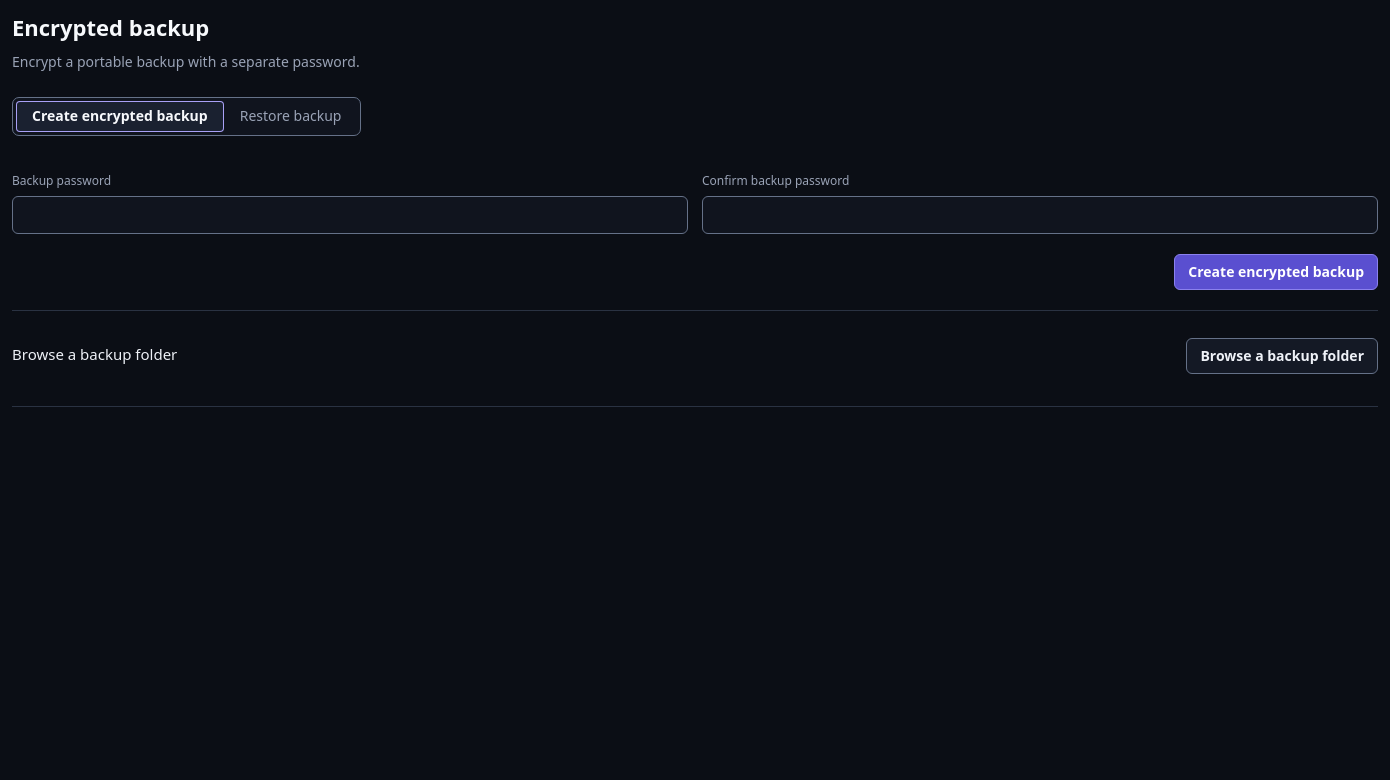
Scenario: backup restore review › keeps a successful merge restore successful when refresh fails
Click the button "Restore backup" at x=291, y=116, box [224, 101, 358, 132]
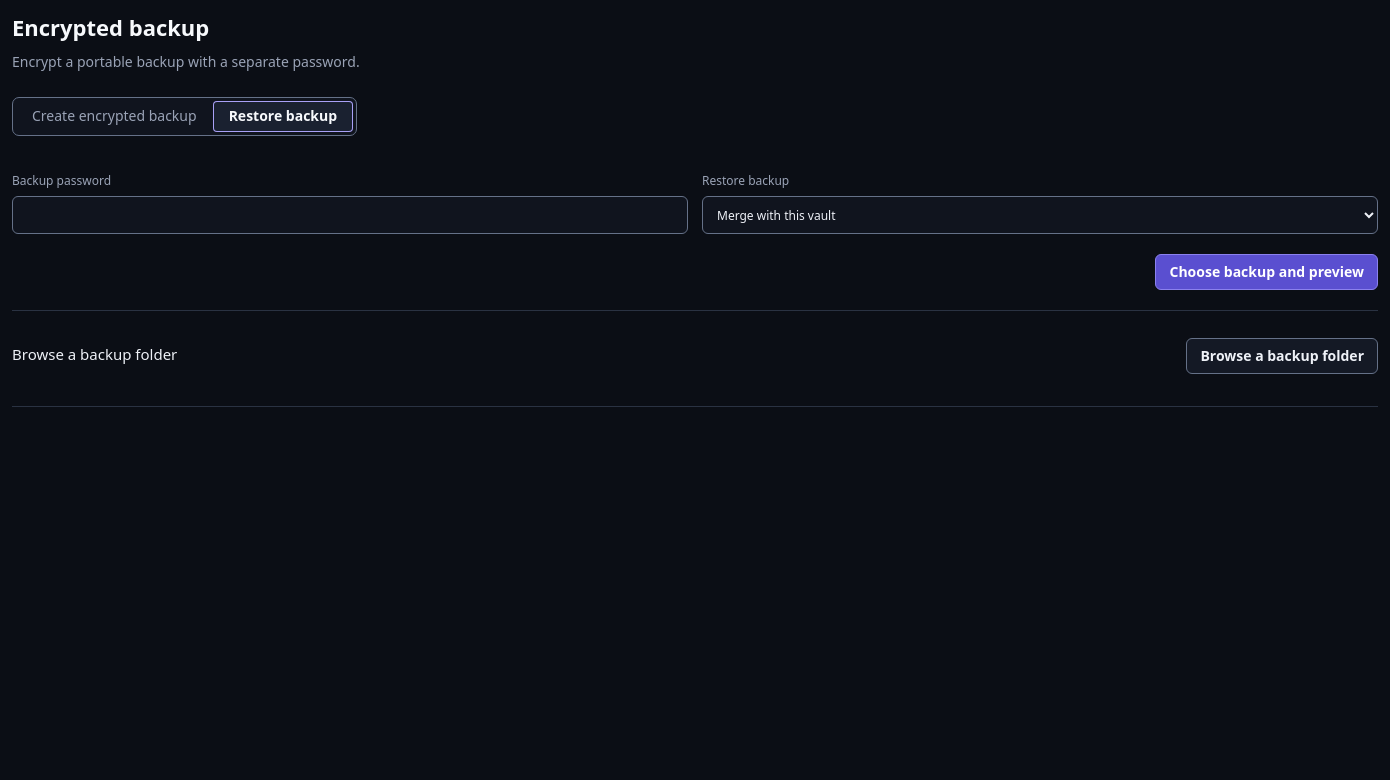
Type "synthetic-backup-password" into the password field labelled "Backup password" at x=350, y=215, box [12, 196, 688, 234]
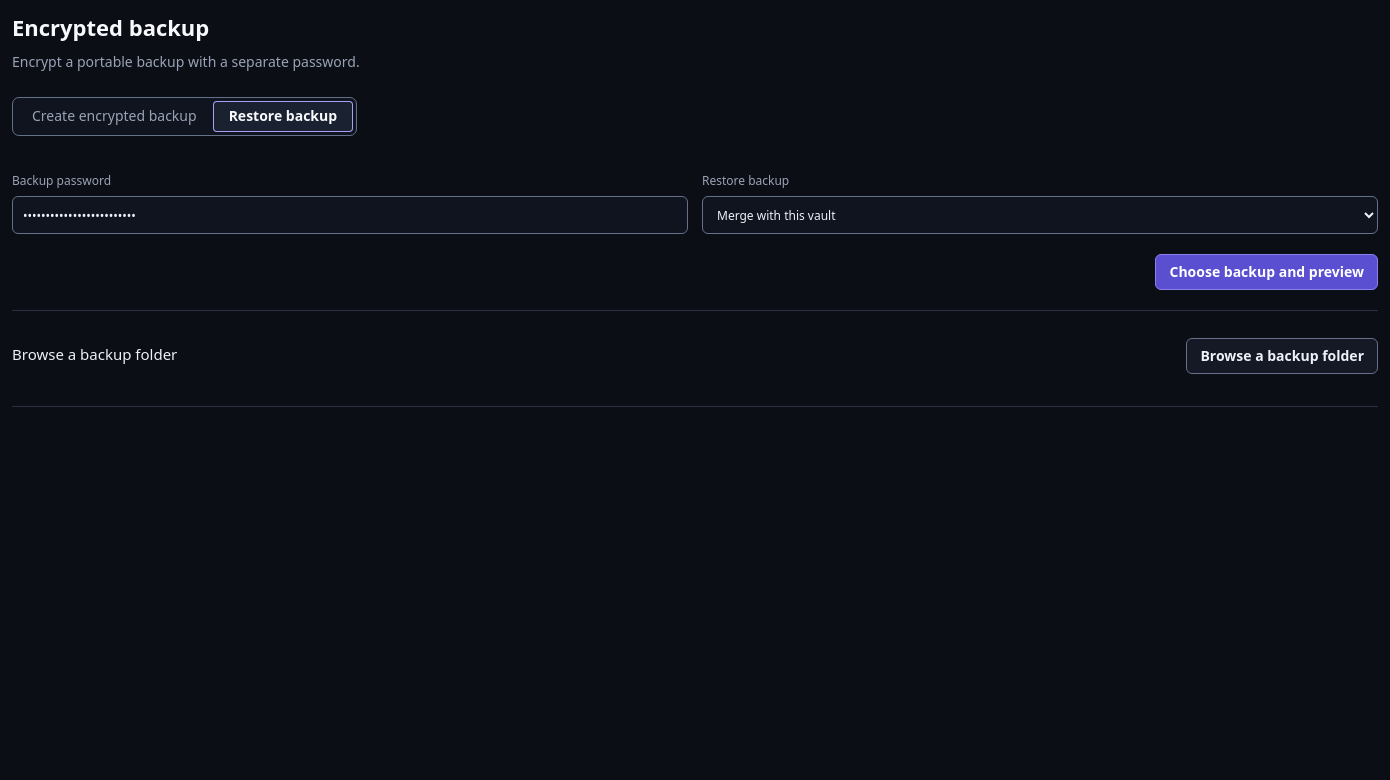
Click the button "Choose backup and preview" at x=1267, y=272, box [1156, 254, 1378, 290]
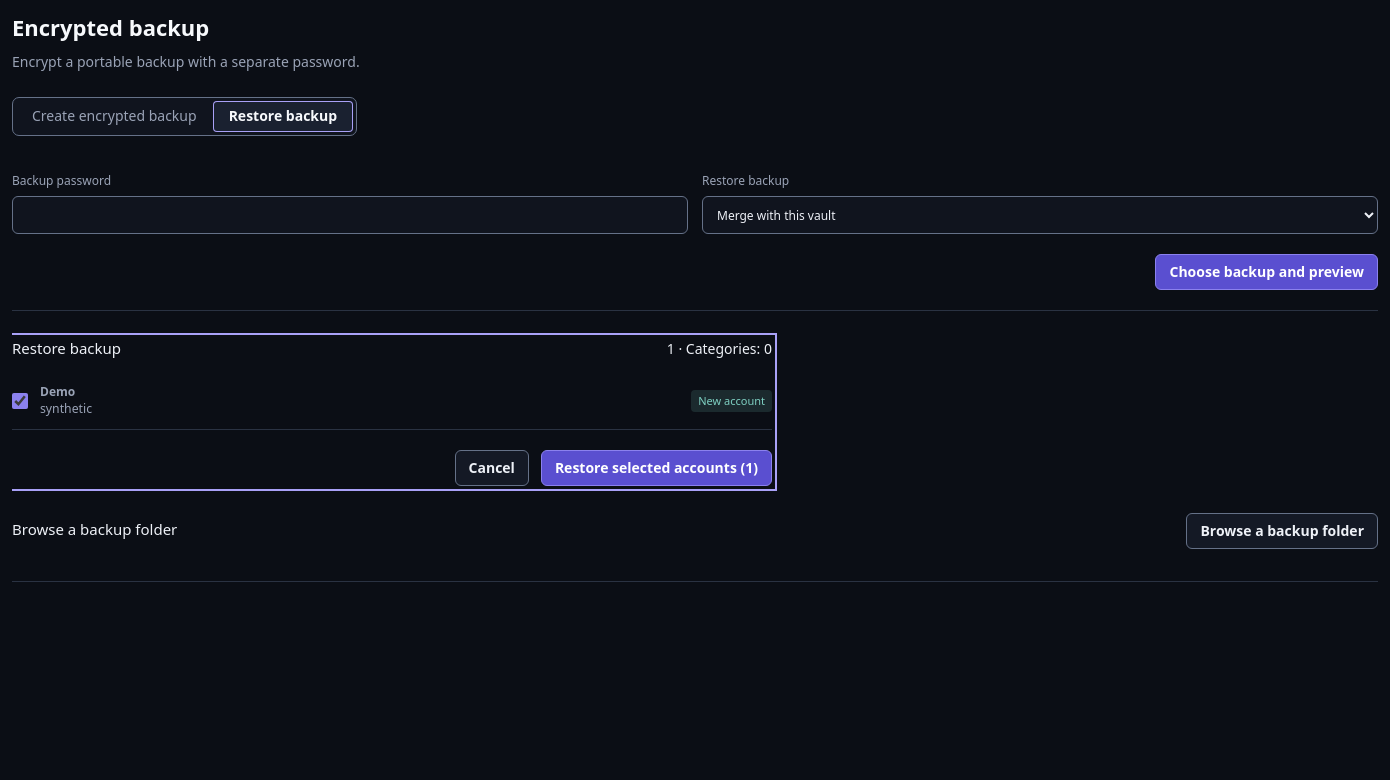
Expected: the text "synthetic" is shown, [40, 400, 92, 418]
Click the button "Restore selected accounts (1)" at x=656, y=468, box [541, 450, 772, 486]
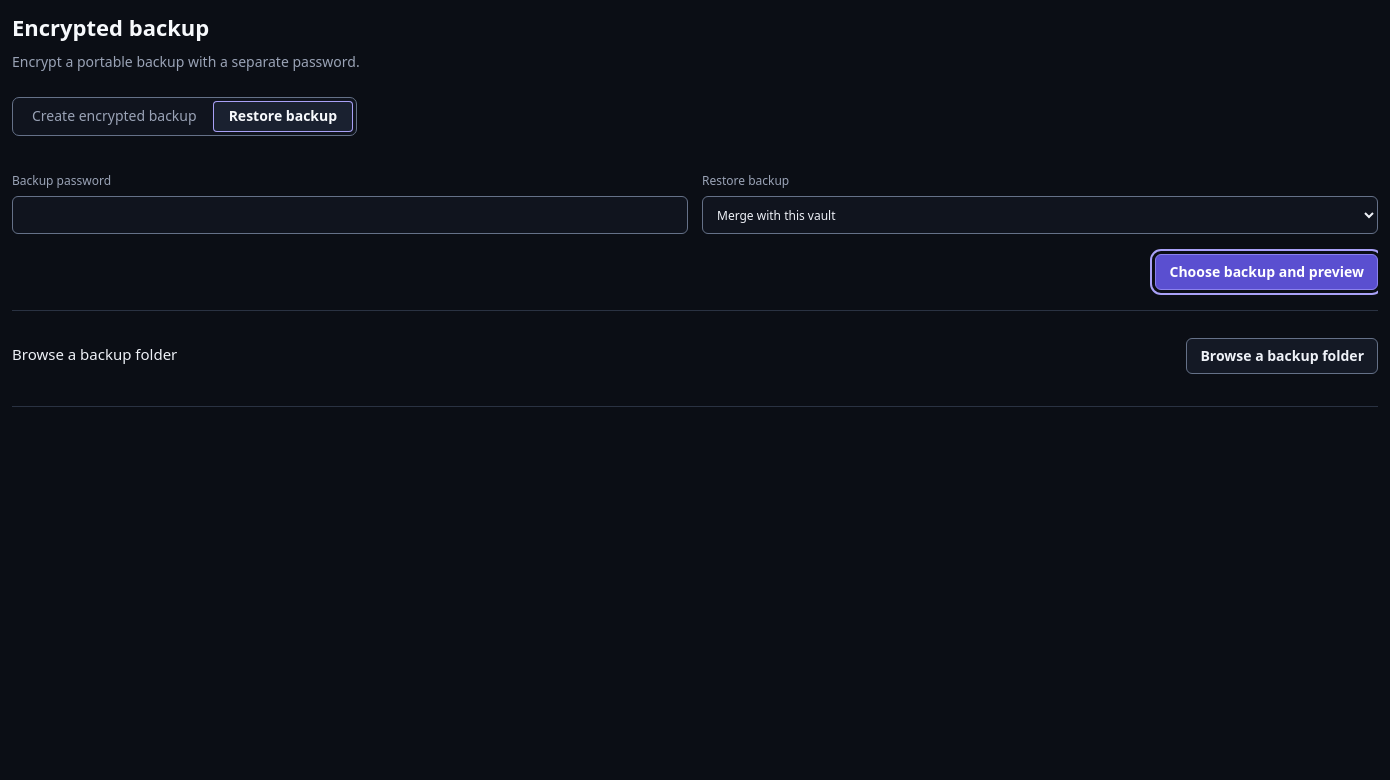
Expected: the text "synthetic" is gone
